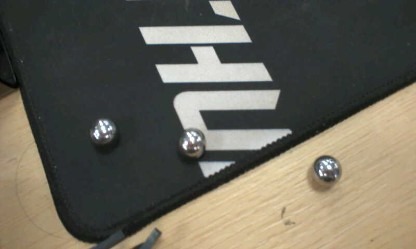ironball: (311, 154, 341, 187), (178, 127, 205, 159), (88, 117, 117, 146)
